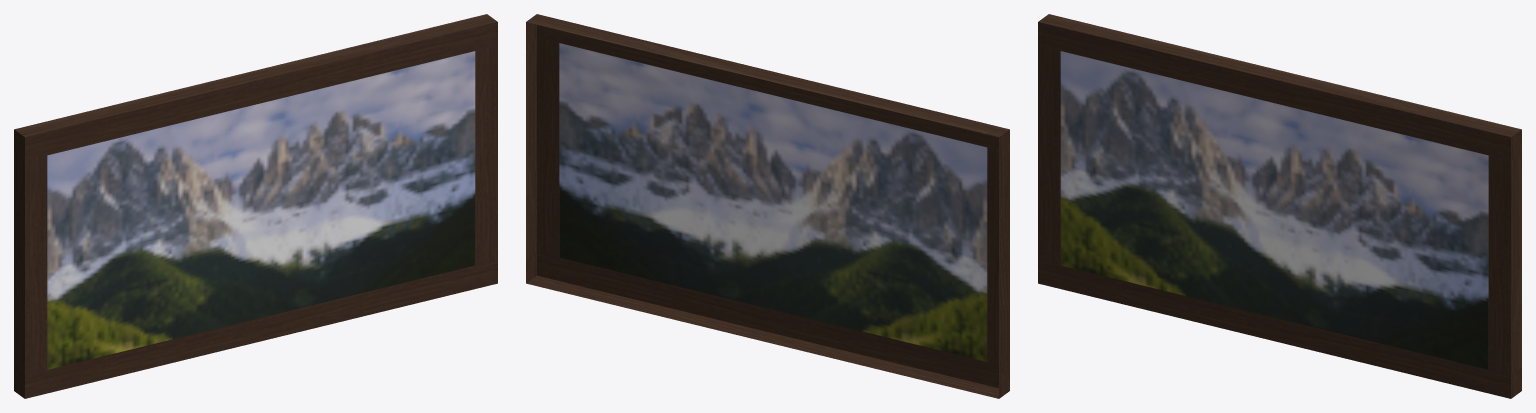
The model's file is Paint_13.fbx.
3 renders of one model, left to right at view 1: azimuth 30°, elevation 25°; view 2: azimuth 150°, elevation 25°; view 3: azimuth 330°, elevation 25°, orthographic.
Visible parts, largest first — view 1: polySurface942; view 2: polySurface942; view 3: polySurface942.
Part boxes in pixels (x1,y1,x2,y2): polySurface942: (14, 14, 497, 398); polySurface942: (526, 14, 1009, 398); polySurface942: (1038, 14, 1521, 398).
Size of the model in its own units: 2.12 by 1.12 by 0.084.
